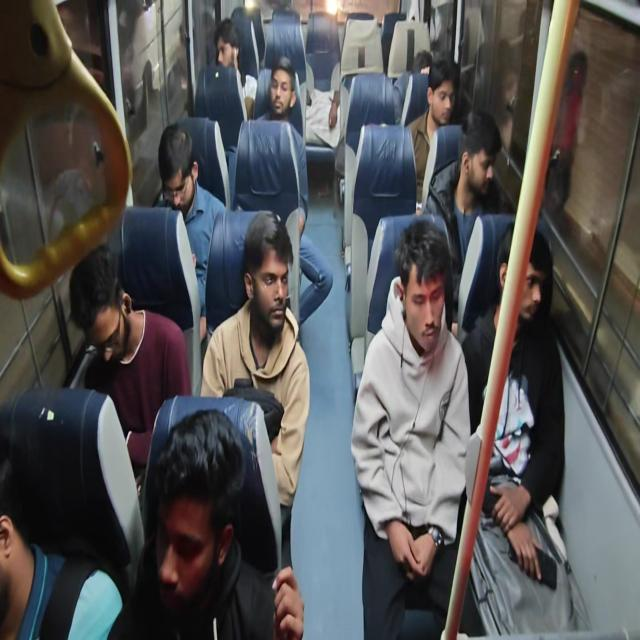person: (459, 221, 590, 636), (350, 216, 472, 638), (107, 408, 304, 638), (200, 209, 310, 570), (0, 387, 140, 639), (68, 243, 192, 473), (254, 57, 334, 328), (422, 108, 504, 324), (153, 122, 226, 345), (255, 56, 309, 236), (404, 55, 460, 208), (544, 49, 588, 218), (212, 18, 257, 121), (255, 56, 303, 138), (489, 64, 519, 154)
